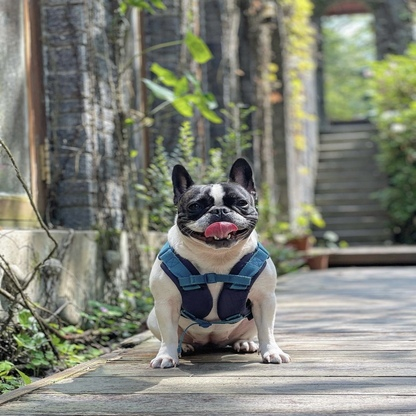bulldog: (144, 155, 293, 369)
